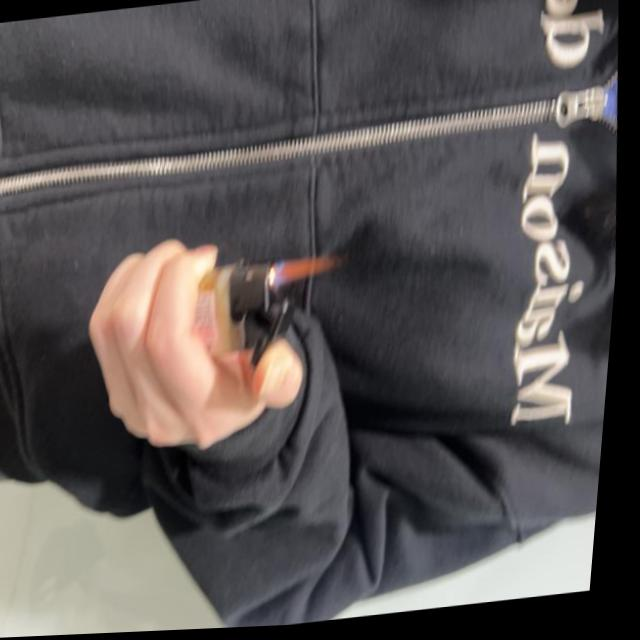Fire: (278, 256, 345, 284)
